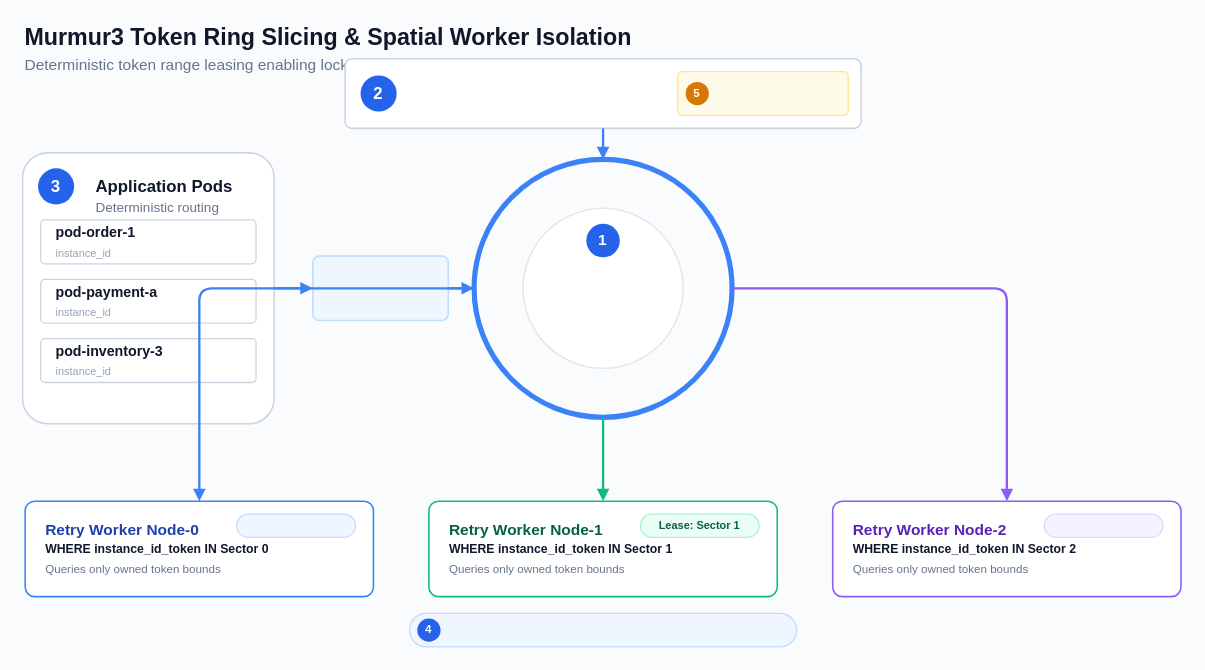
Image size: 1205x670. Some labels were removed from this diagram. Each missing label, with the box of its shape:
Lease Guard valid_from .. to (ms): (677, 70, 848, 115)
Lease: Sector 0: (235, 513, 355, 537)
Lease: Sector 2: (1043, 513, 1163, 537)
Murmur3 Ring -2⁶³ to 2⁶³-1: (522, 207, 683, 368)
Ring Coordinator RSocket non-overlapping lease assignment: (344, 57, 861, 128)
Spatial Isolation: Zero Lock Contention: (408, 612, 797, 647)
token(instance_id) Murmur3 Hash: (311, 255, 448, 321)
